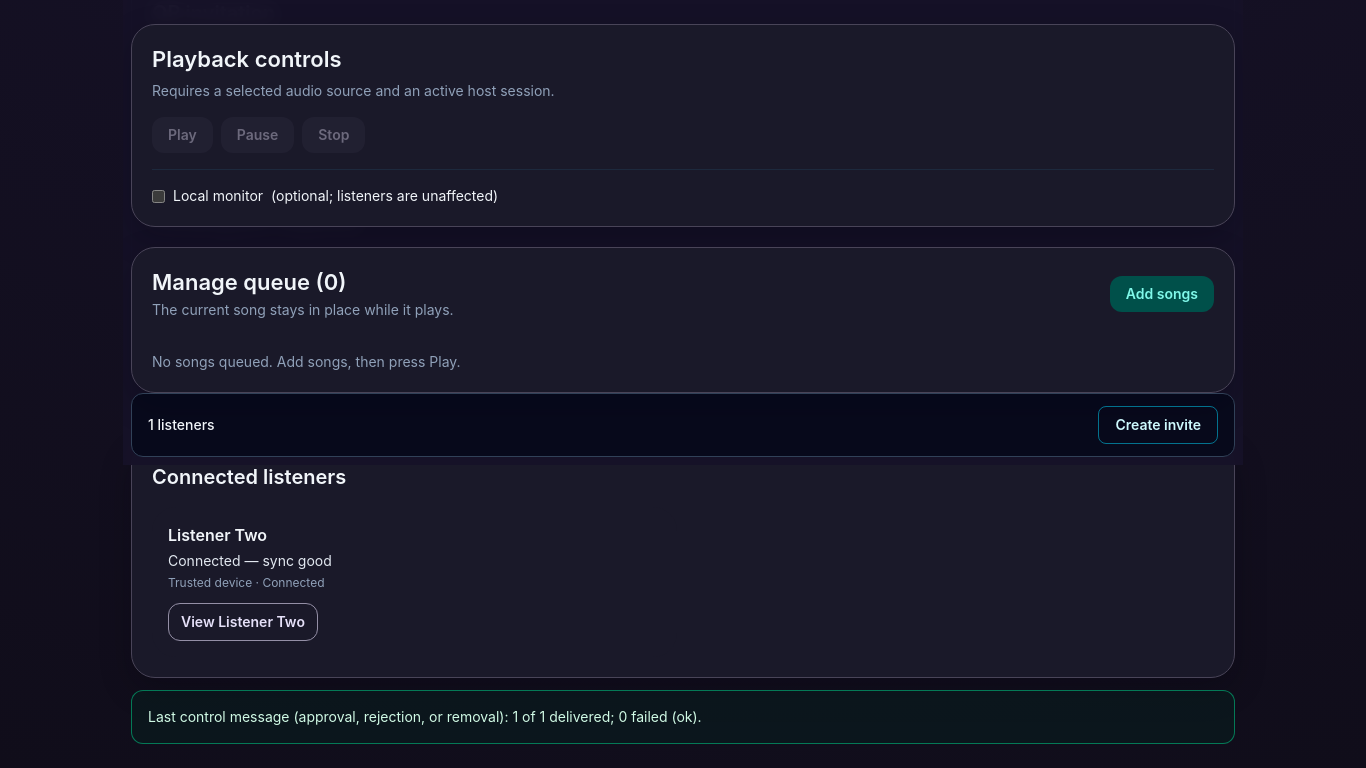
Test case: HostSessionScreen Block 23 › shows listener detail metrics and waits for removal confirmation
(page scrolled)
Expected: the text "Listener Two" is shown, [168,525,267,545]
Click the button "View Listener Two": [243, 622] box [168,603,318,641]
(page scrolled)
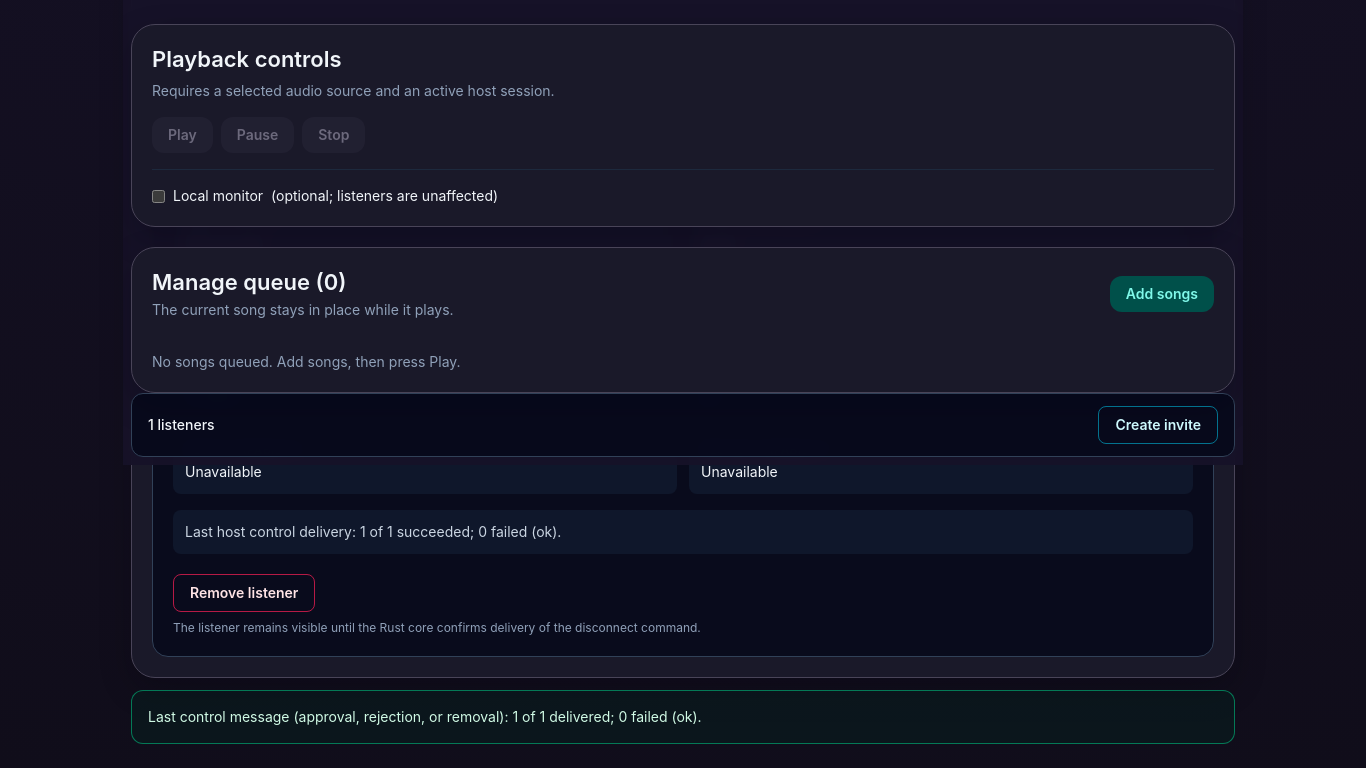
Expected: the heading "Listener Two" is shown, [173,58,311,86]
Expected: the text "good" is shown, [701,235,735,252]
Click the button "Remove listener": [244, 593] box [173,574,315,612]
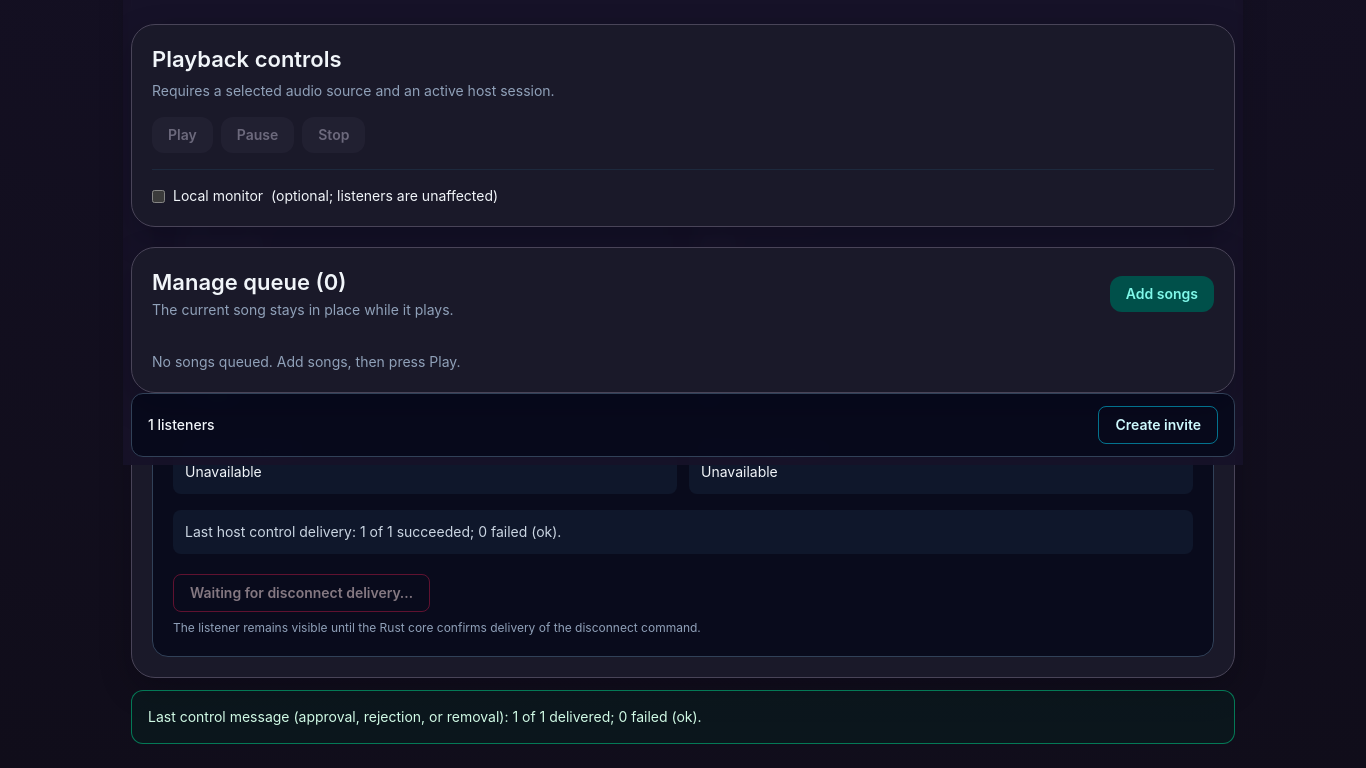
Expected: the heading "Listener Two" is shown, [173,58,311,86]
Now the button "Waiting for disconnect delivery…" is disabled, box [173,574,430,612]
